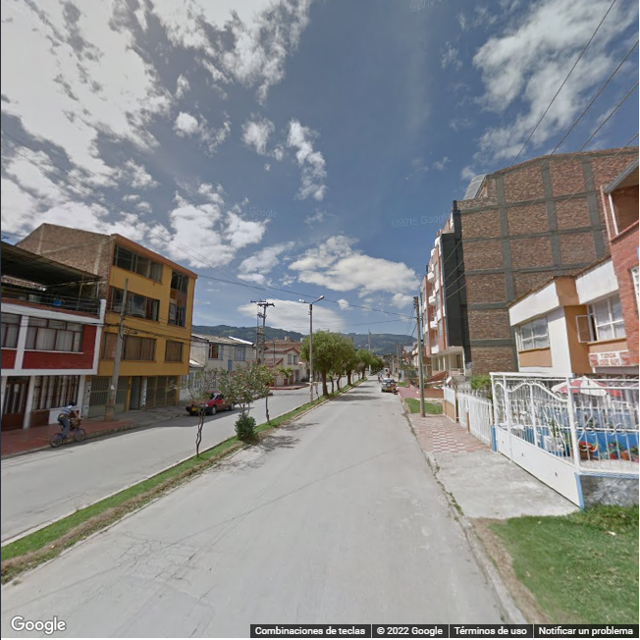D00: (168, 540, 204, 585), (188, 582, 209, 615)
D20: (120, 537, 168, 563)
